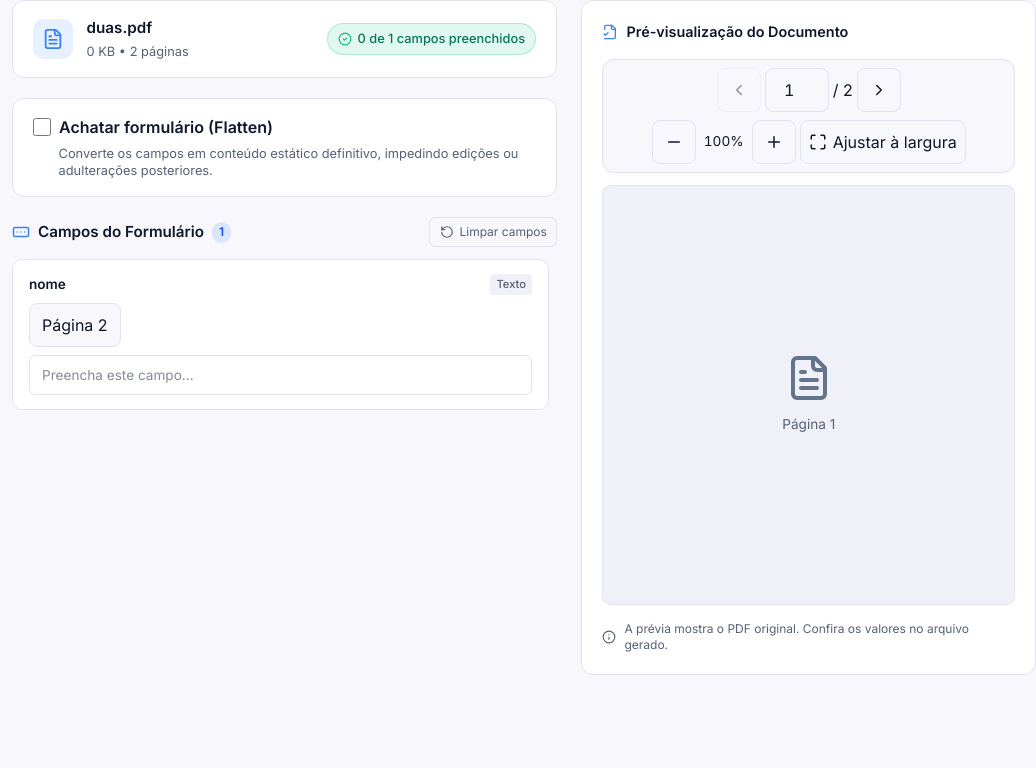
navega do campo para o widget e mantém foco no controle editado
Click the button with aria-label "Ir para nome na página 2" at (75, 325), box [29,303,121,347]
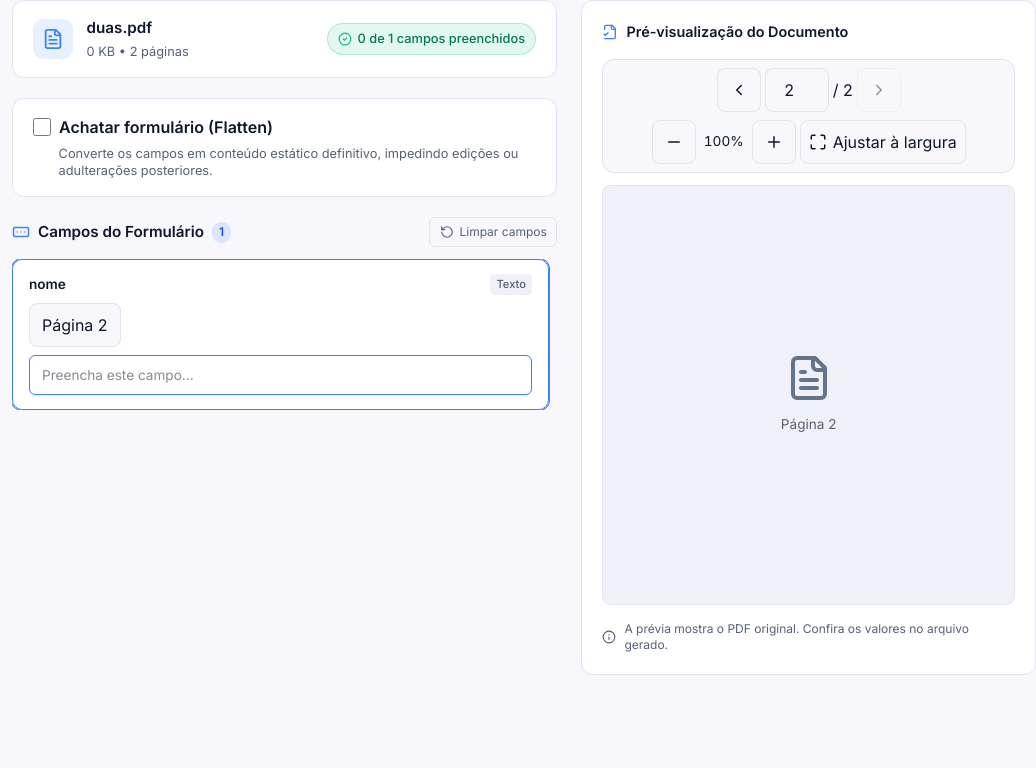
expect the number field named "Página da prévia" holds "2": met, box [765,68,829,112]
